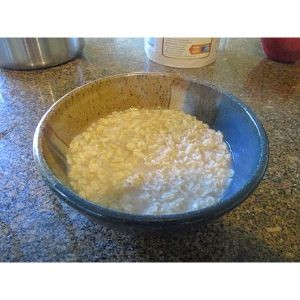oat_brain food: (106, 120, 206, 191)
